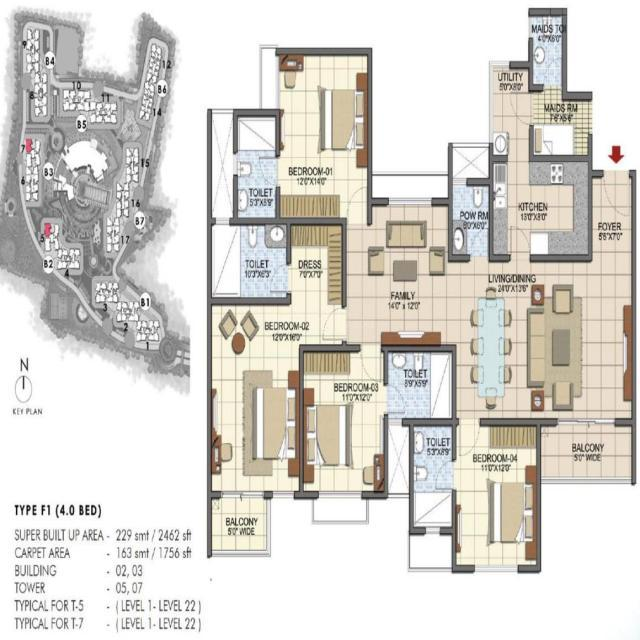Balcony-Sitout: (539, 423, 637, 485), (211, 501, 271, 557)
Bedroom: (209, 303, 302, 501), (278, 48, 371, 215), (300, 345, 387, 496), (454, 423, 541, 569), (533, 91, 591, 160)
Dining: (469, 286, 514, 412)
Dress: (290, 220, 345, 345)
Kitchen: (492, 159, 592, 253)
Living: (518, 257, 631, 423), (369, 200, 451, 344)
Toilet: (207, 222, 290, 300), (234, 111, 280, 221), (386, 347, 453, 417), (411, 422, 452, 531), (529, 9, 568, 88), (451, 181, 492, 251)
Utility: (490, 65, 532, 159)
